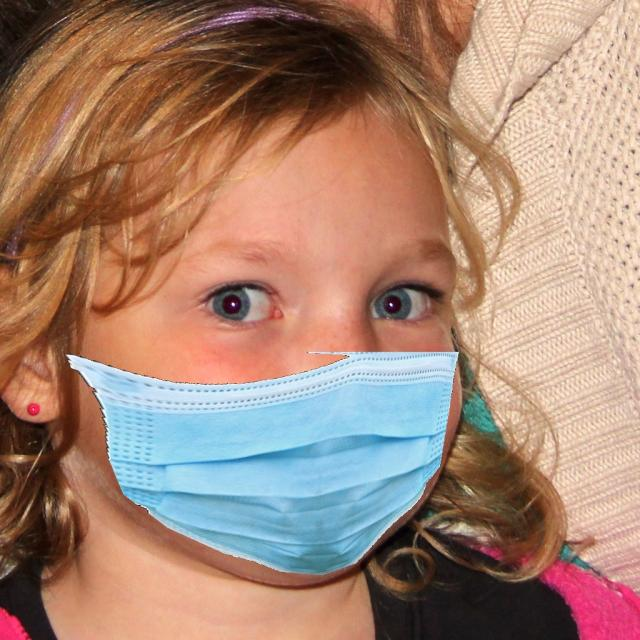1_mascarilla: (69, 352, 454, 573)
